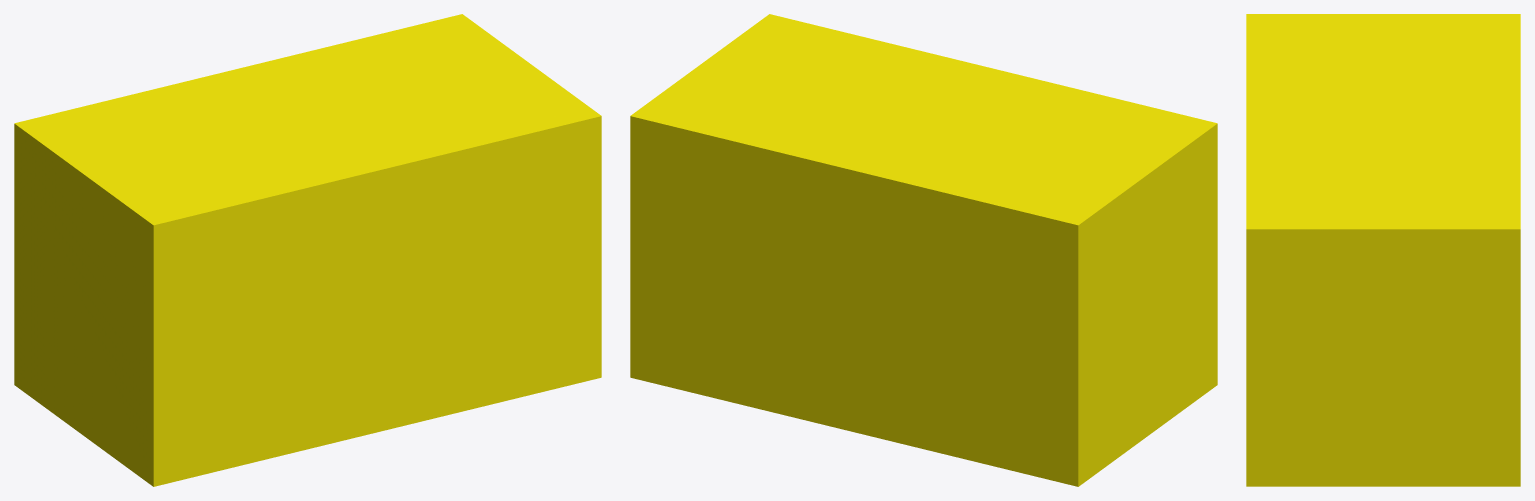
Rendered from asset.glb.
3 renders of one model, left to right at view 1: azimuth 30°, elevation 25°; view 2: azimuth 150°, elevation 25°; view 3: azimuth 270°, elevation 25°, orthographic.
Visible parts, largest first — view 1: mesh_id43; view 2: mesh_id43; view 3: mesh_id43.
Boxes of the visible parts, <box> form: mesh_id43: <box>14,14,601,486</box>; mesh_id43: <box>630,14,1217,486</box>; mesh_id43: <box>1246,14,1520,486</box>.
Size of the model in its own units: 2.3 by 1.28 by 1.24.
2 materials, 2 textured.
